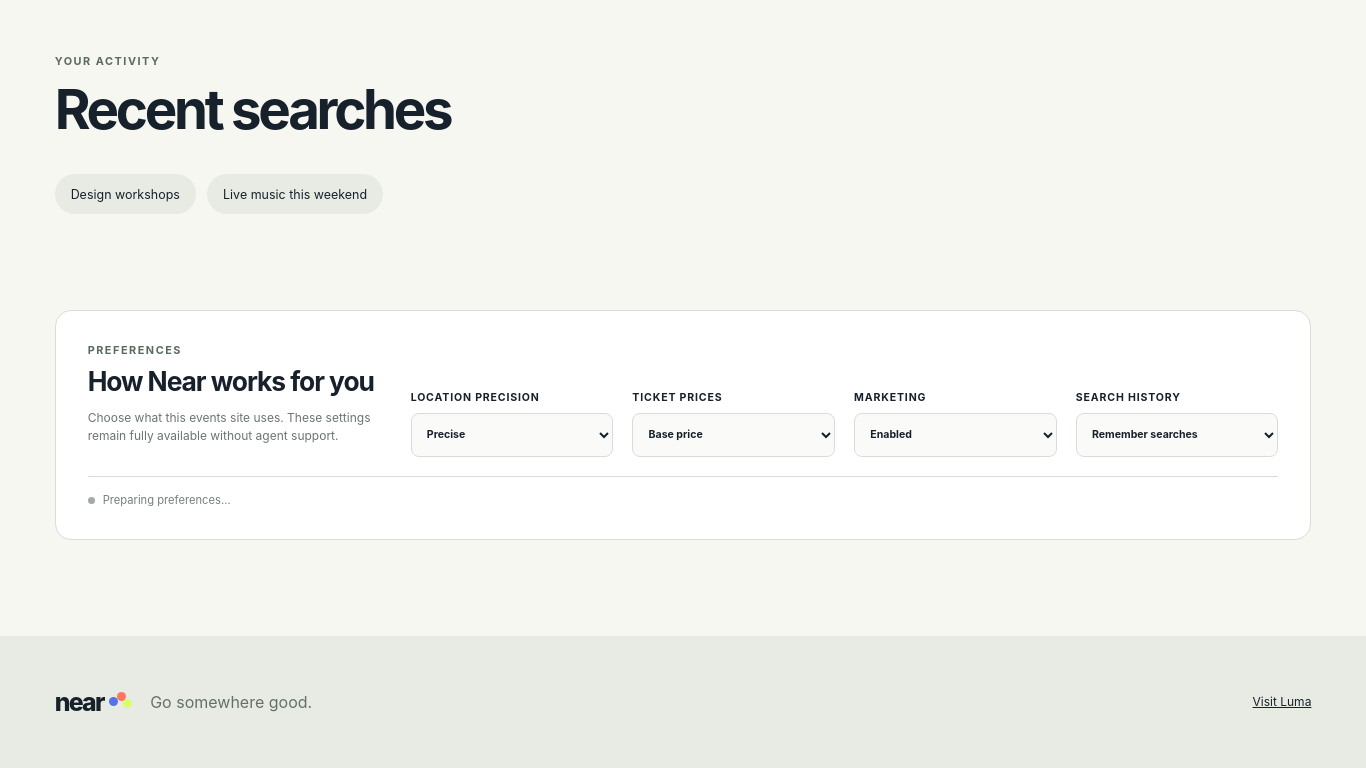
Test: Near human experience › asks for city visibly and never preselects one
The width and height of the screenshot is (1366, 768).
(page scrolled)
Select "City-level" in the dropdown labelled "Location precision" at (512, 435), box [411,413,613,457]
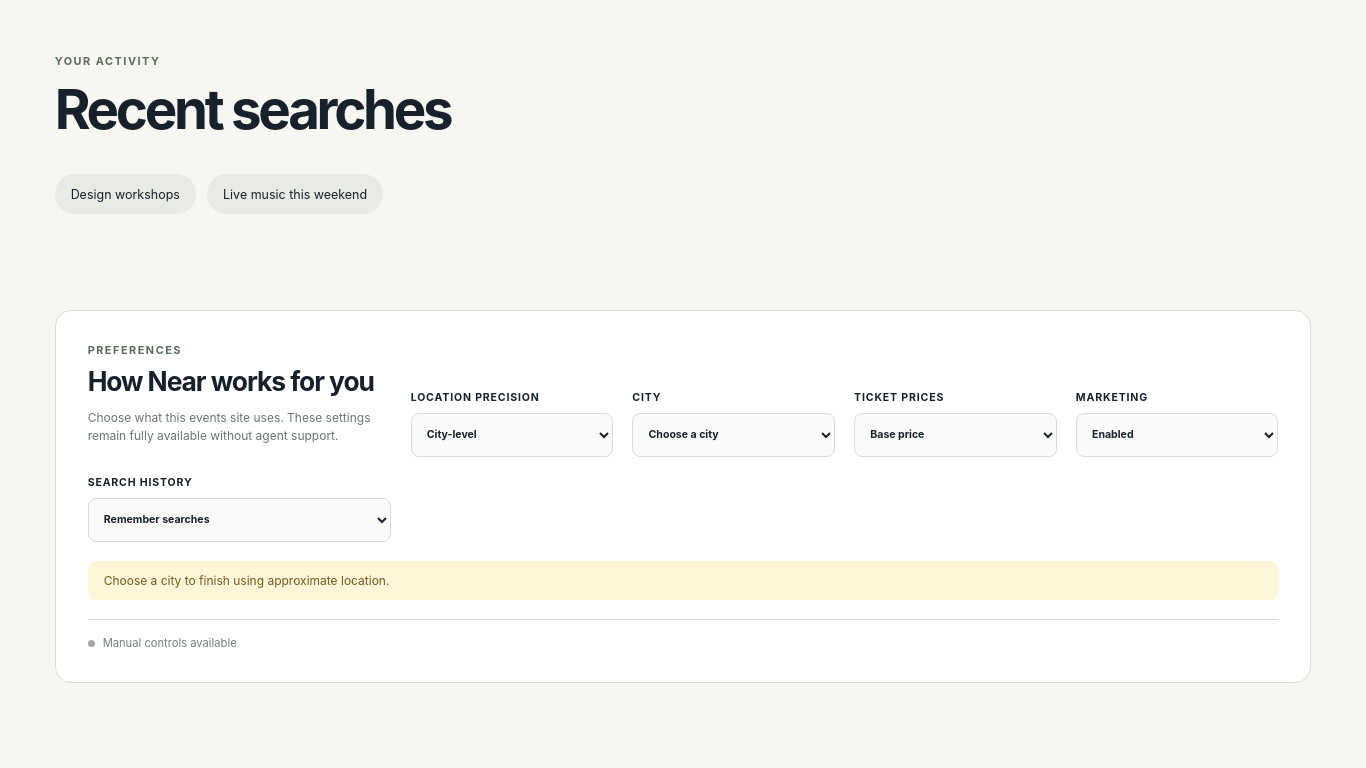
Expected: the text "Choose a city to finish using approximate location." is shown, [88,561,1278,600]
Expected: the dropdown labelled "City" shows "Choose a city", [632,413,835,457]
